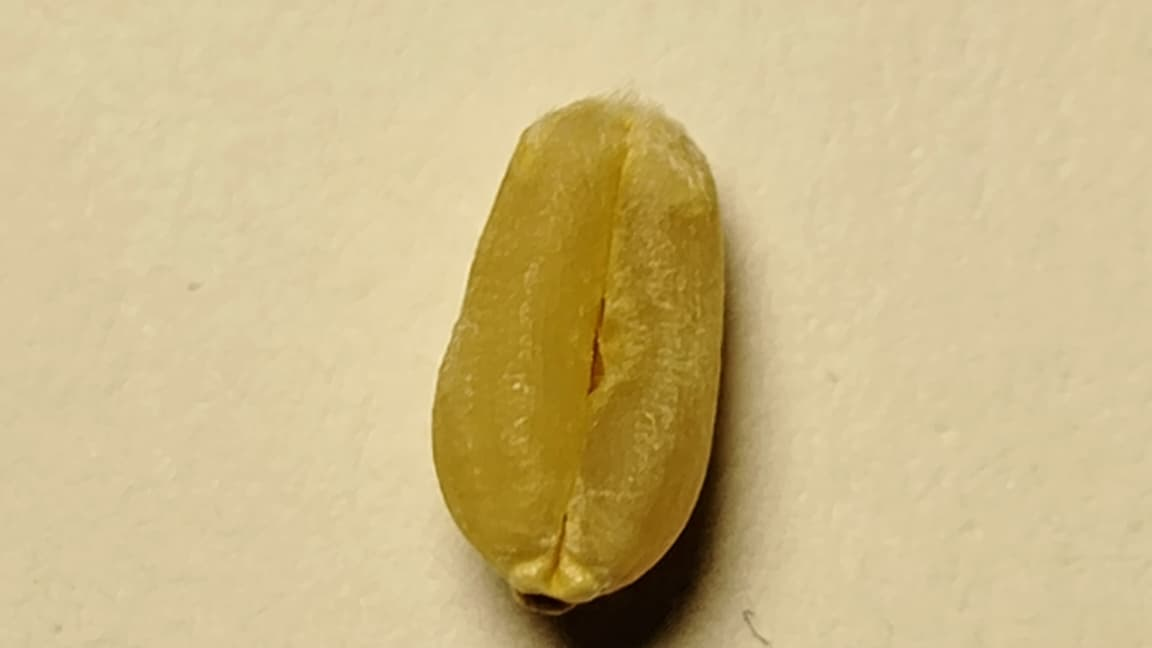healthy: (432, 91, 726, 612)
